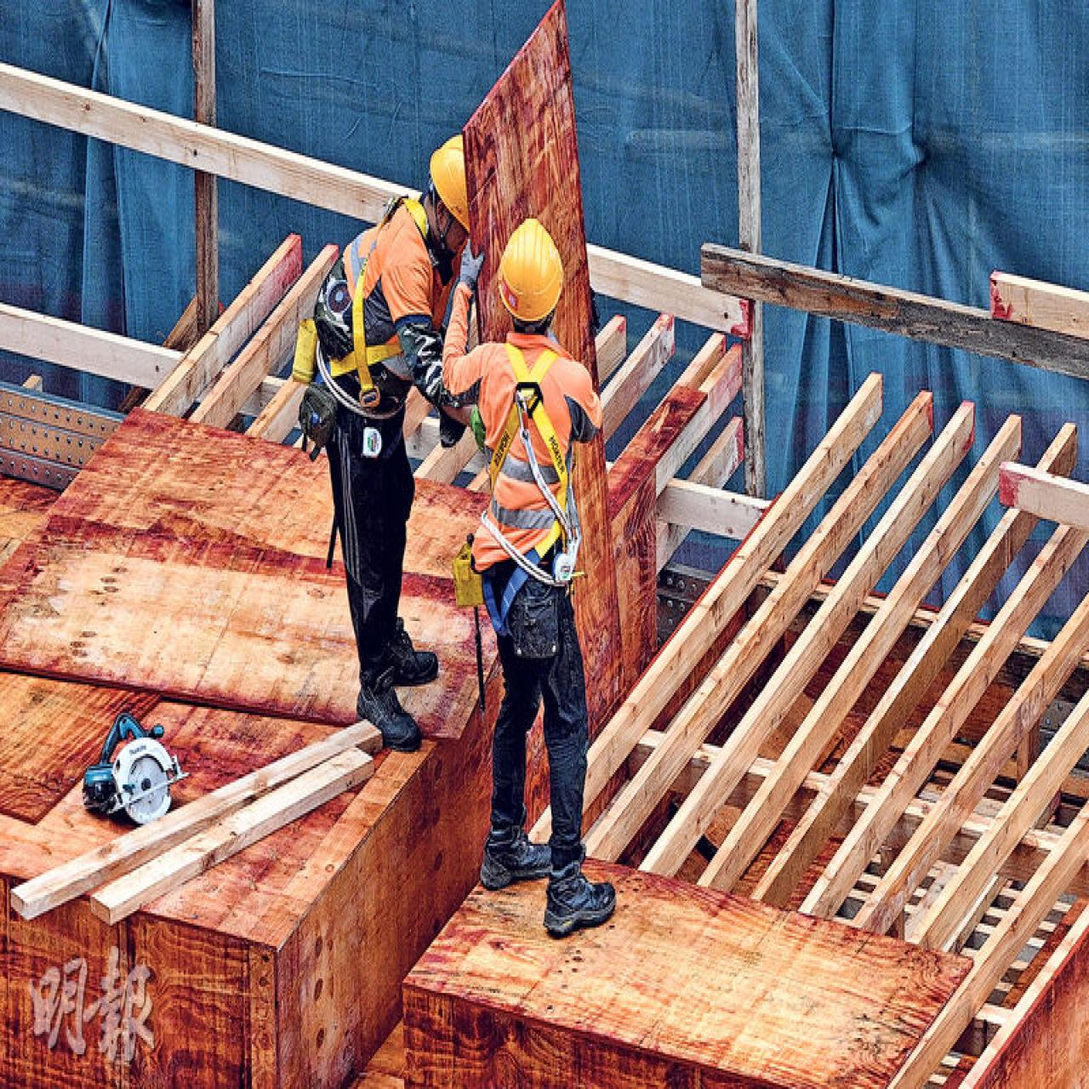NO_Safety_Vest: (455, 327, 599, 582), (313, 190, 448, 433)
Person: (428, 203, 645, 952), (304, 100, 492, 766)
